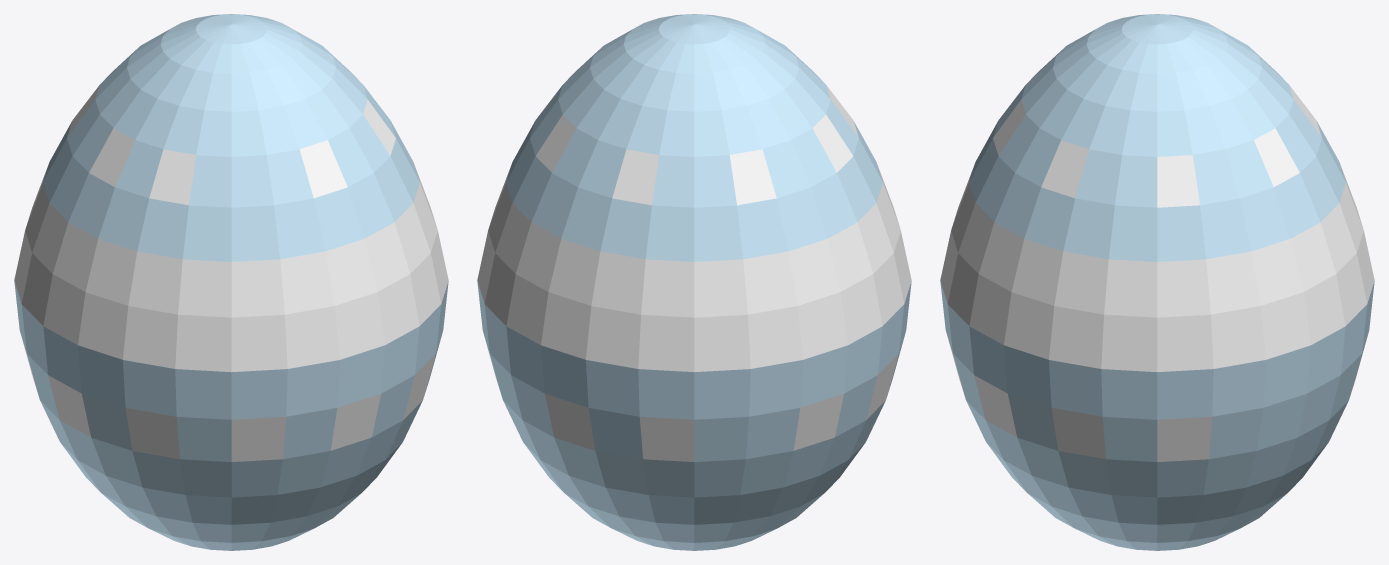
The model's file is Egg_frost.fbx.
3 views of the same model, side by side, from view 1: azimuth 30°, elevation 25°; view 2: azimuth 150°, elevation 25°; view 3: azimuth 270°, elevation 25° (orthographic).
Parts seen in each view (by area): view 1: Egg_frost; view 2: Egg_frost; view 3: Egg_frost.
Part boxes in pixels (x1,y1,x2,y2): Egg_frost: (14,14,448,550); Egg_frost: (477,14,911,550); Egg_frost: (940,14,1374,550).
Bounding box in the file's own units: 28 × 36.4 × 28.
